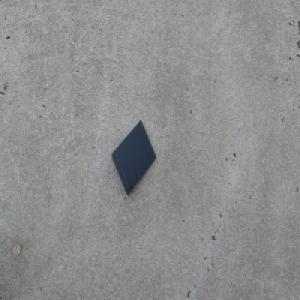PlasticPart: (110, 119, 156, 196)
